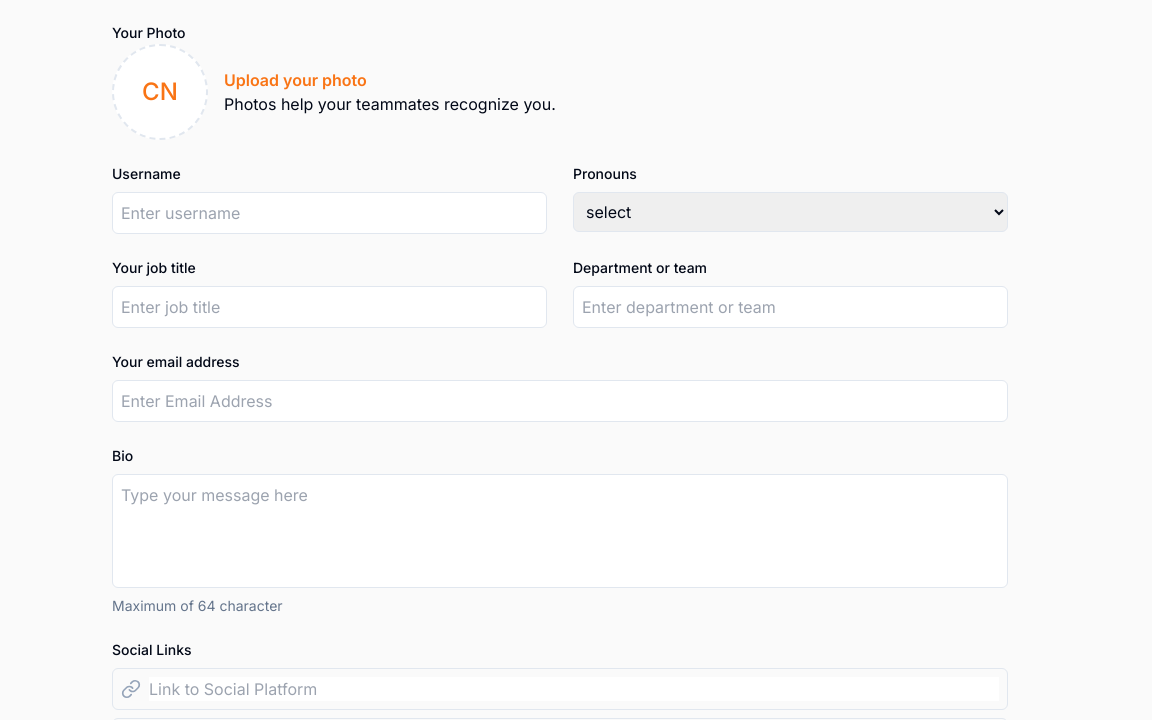
profile Component › should enforce character limit on the bio field
Type "This bio is way too long and should not be accepted by the form as it exceeds the 64 character limit." into the text box labelled "Bio". click: (560, 531)
box: [112,474,1008,588]
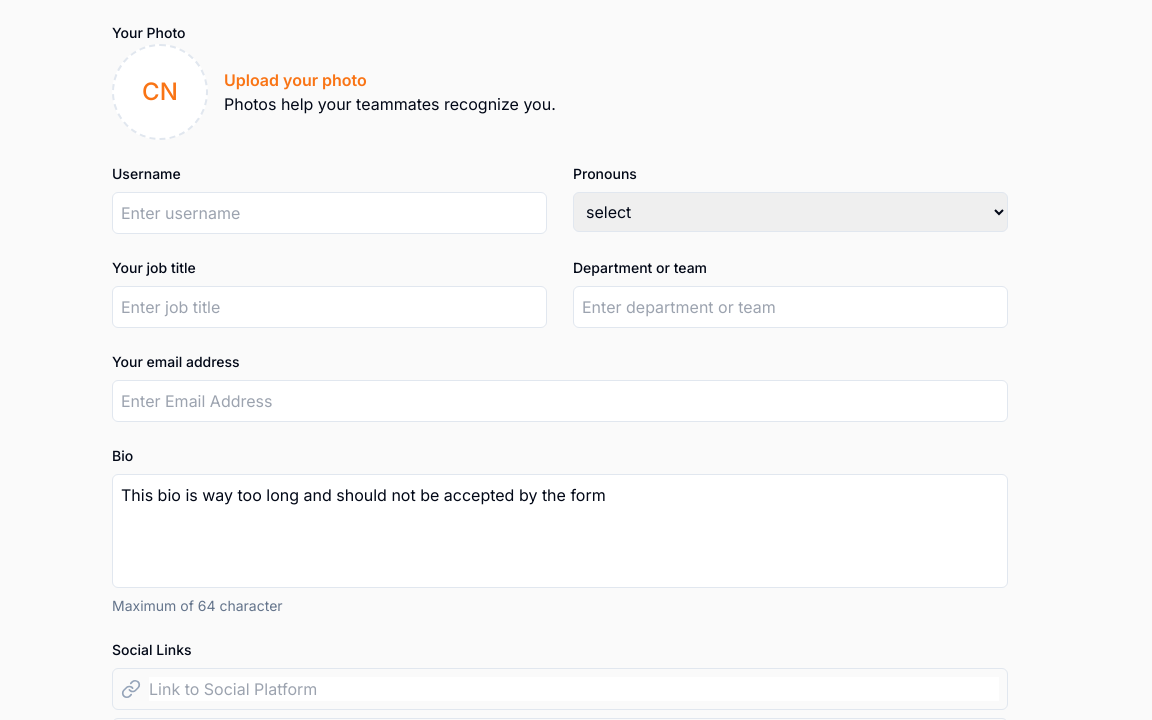
Expected: the text box labelled "Bio" holds "This bio is way too long and should not be accepted by the form ", [112,474,1008,588]
